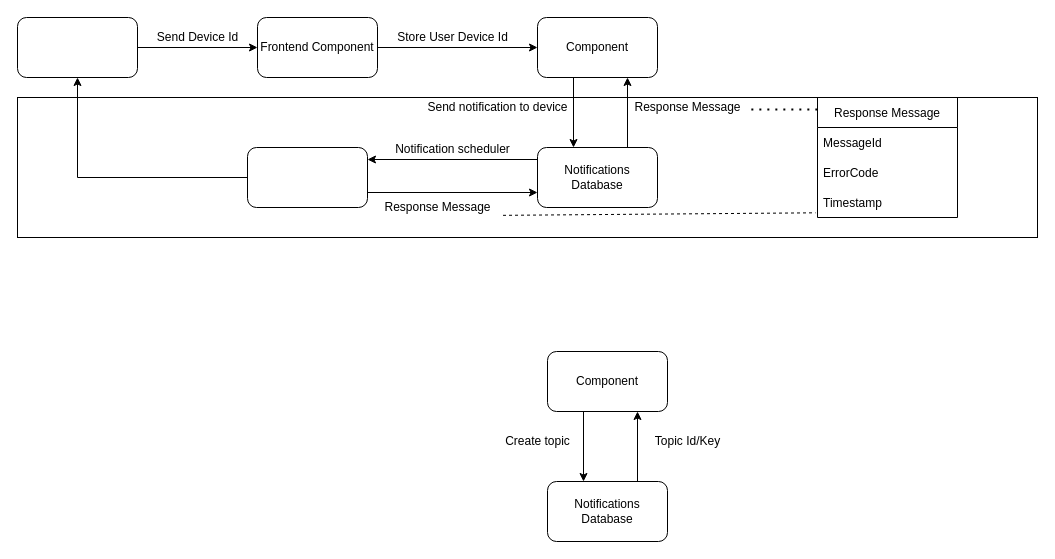
Some shapes in this 1055 by 559 pixel diagram are drawn without their labels. Each missing label, with the centre of its shape:
"Client Device" belongs at pixel 77 47.
"Firebase Cloud Messaging" belongs at pixel 307 177.
